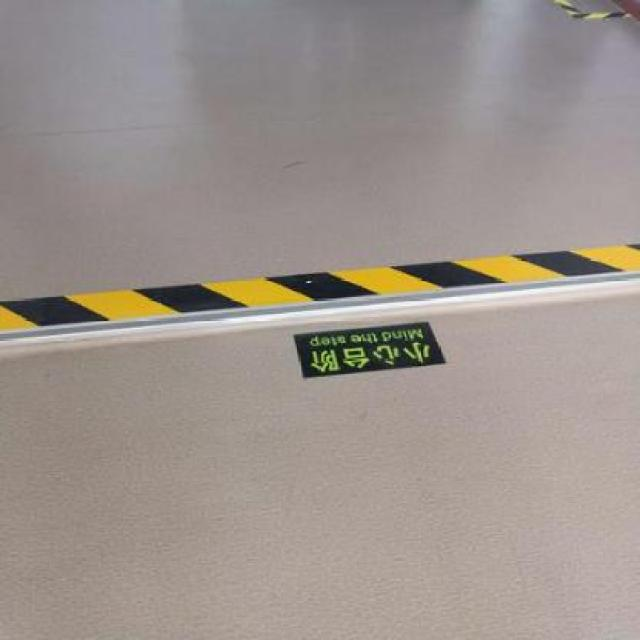exit_sign: (286, 332, 449, 382)
